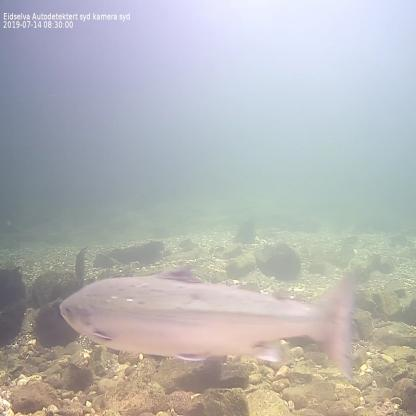salmon: (59, 260, 362, 384)
